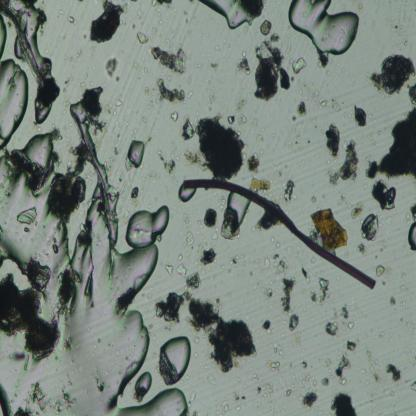Air bubble: (108, 244, 159, 392), (288, 0, 362, 58), (0, 54, 33, 146), (14, 0, 55, 71), (107, 383, 191, 416), (123, 201, 172, 248), (159, 337, 195, 387), (23, 129, 60, 176), (200, 0, 252, 29), (0, 252, 30, 295), (127, 138, 148, 170), (228, 194, 247, 222), (134, 370, 152, 396), (0, 13, 8, 58), (180, 185, 194, 204), (407, 224, 416, 251)
Background material: (0, 272, 64, 361), (186, 292, 256, 373), (365, 106, 416, 180), (193, 109, 246, 180), (251, 36, 291, 101), (368, 52, 416, 99), (74, 220, 99, 306), (72, 88, 116, 136), (49, 167, 86, 220), (89, 0, 129, 46), (0, 378, 48, 416), (308, 205, 348, 250), (3, 152, 43, 195), (328, 140, 362, 184), (151, 289, 192, 322), (280, 276, 300, 335), (54, 265, 79, 311), (149, 45, 187, 75), (157, 77, 193, 108), (369, 180, 397, 213), (26, 257, 50, 294), (49, 388, 76, 416), (328, 389, 356, 416), (112, 285, 138, 314), (359, 210, 382, 240), (323, 122, 342, 158), (224, 99, 248, 127), (35, 78, 59, 106), (156, 150, 179, 178), (224, 202, 242, 236), (199, 205, 220, 234), (333, 354, 352, 386), (288, 52, 309, 80), (99, 50, 119, 79), (249, 382, 277, 402), (308, 277, 328, 304), (366, 346, 380, 384), (15, 208, 38, 231), (351, 103, 369, 130), (300, 389, 322, 411), (181, 228, 198, 255), (381, 361, 402, 382), (200, 246, 220, 268), (179, 149, 202, 168), (248, 174, 272, 192), (132, 26, 152, 46), (236, 50, 251, 75), (324, 316, 340, 339), (104, 147, 120, 170), (182, 120, 197, 144), (316, 52, 334, 71), (264, 21, 280, 42), (282, 176, 296, 200), (405, 82, 416, 110), (89, 377, 106, 395), (61, 75, 76, 95), (223, 257, 241, 273), (259, 214, 273, 234), (129, 183, 143, 203), (318, 100, 343, 111), (173, 262, 189, 279), (150, 0, 174, 11), (247, 154, 260, 174), (262, 252, 274, 272), (267, 358, 283, 373), (348, 205, 362, 221), (298, 100, 310, 118), (280, 381, 294, 396), (301, 266, 312, 285), (187, 274, 200, 290), (62, 338, 75, 354), (72, 45, 86, 59), (344, 338, 356, 354), (205, 371, 217, 387), (300, 375, 317, 386), (207, 56, 219, 70), (276, 260, 290, 272), (65, 10, 77, 23), (168, 112, 180, 125), (374, 265, 387, 277), (263, 319, 272, 335), (221, 398, 229, 416), (341, 304, 349, 321), (324, 355, 332, 372), (182, 8, 191, 23), (262, 286, 274, 297), (358, 239, 366, 255), (182, 211, 191, 224), (164, 262, 172, 276), (389, 293, 397, 306), (321, 378, 330, 389), (301, 357, 309, 369), (140, 118, 149, 127), (286, 248, 294, 257), (410, 381, 416, 392), (347, 323, 356, 330), (115, 99, 122, 106), (400, 301, 406, 308)
Cellulose filter fibre: (72, 106, 115, 262), (0, 1, 50, 93)
Microfibre: (183, 176, 377, 288)
